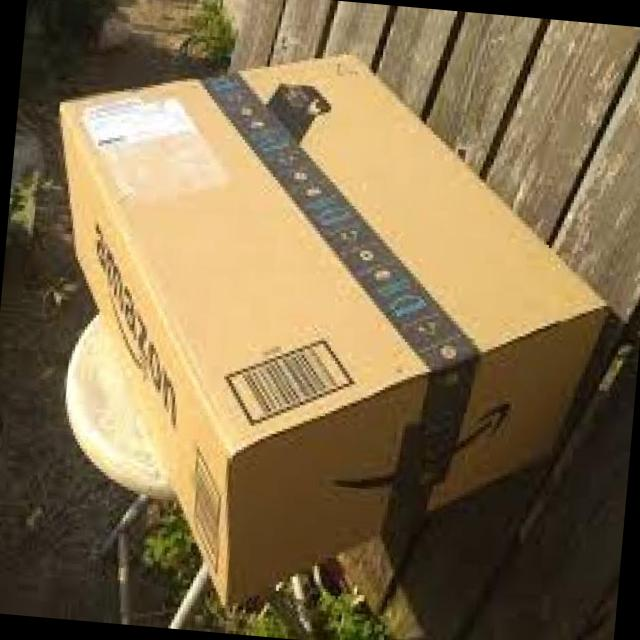box: (58, 54, 607, 609)
